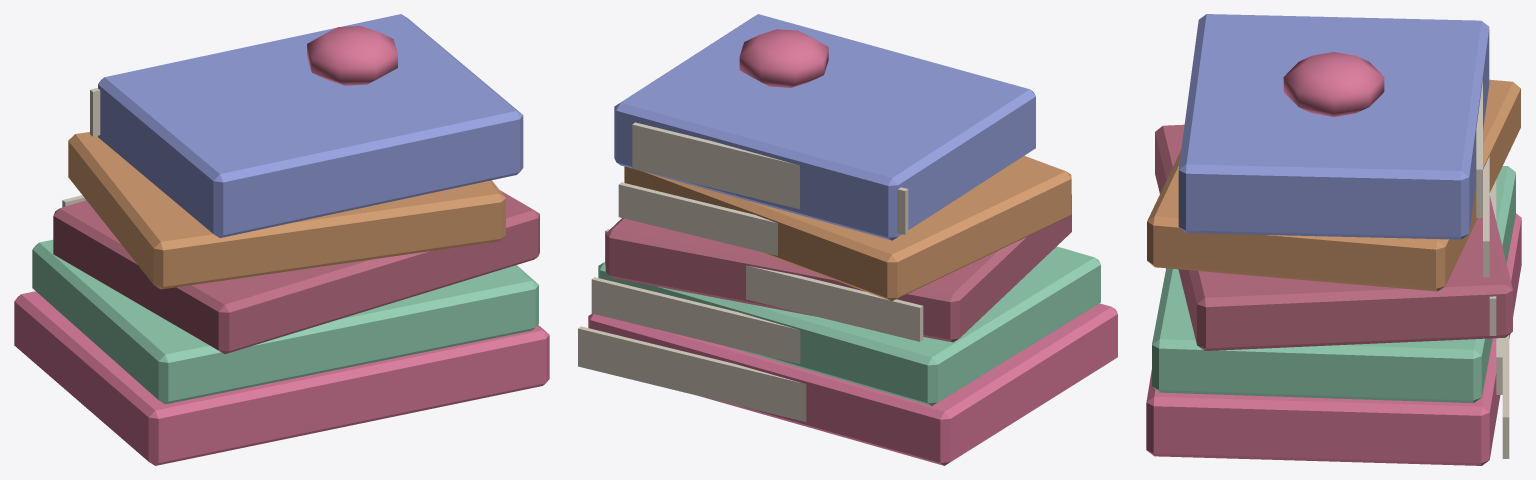
The model's file is book_stack.glb.
3 renders of one model, left to right at view 1: azimuth 30°, elevation 25°; view 2: azimuth 150°, elevation 25°; view 3: azimuth 270°, elevation 25°, orthographic. The views are drawn at different scales.
Parts seen in each view (by area): view 1: book_stack; view 2: book_stack; view 3: book_stack.
Part boxes in pixels (<box>): book_stack: <box>14,14,549,465</box>; book_stack: <box>578,14,1117,465</box>; book_stack: <box>1146,14,1521,465</box>.
Size of what is drawn, in the model's own units: 0.4 by 0.3 by 0.3.
